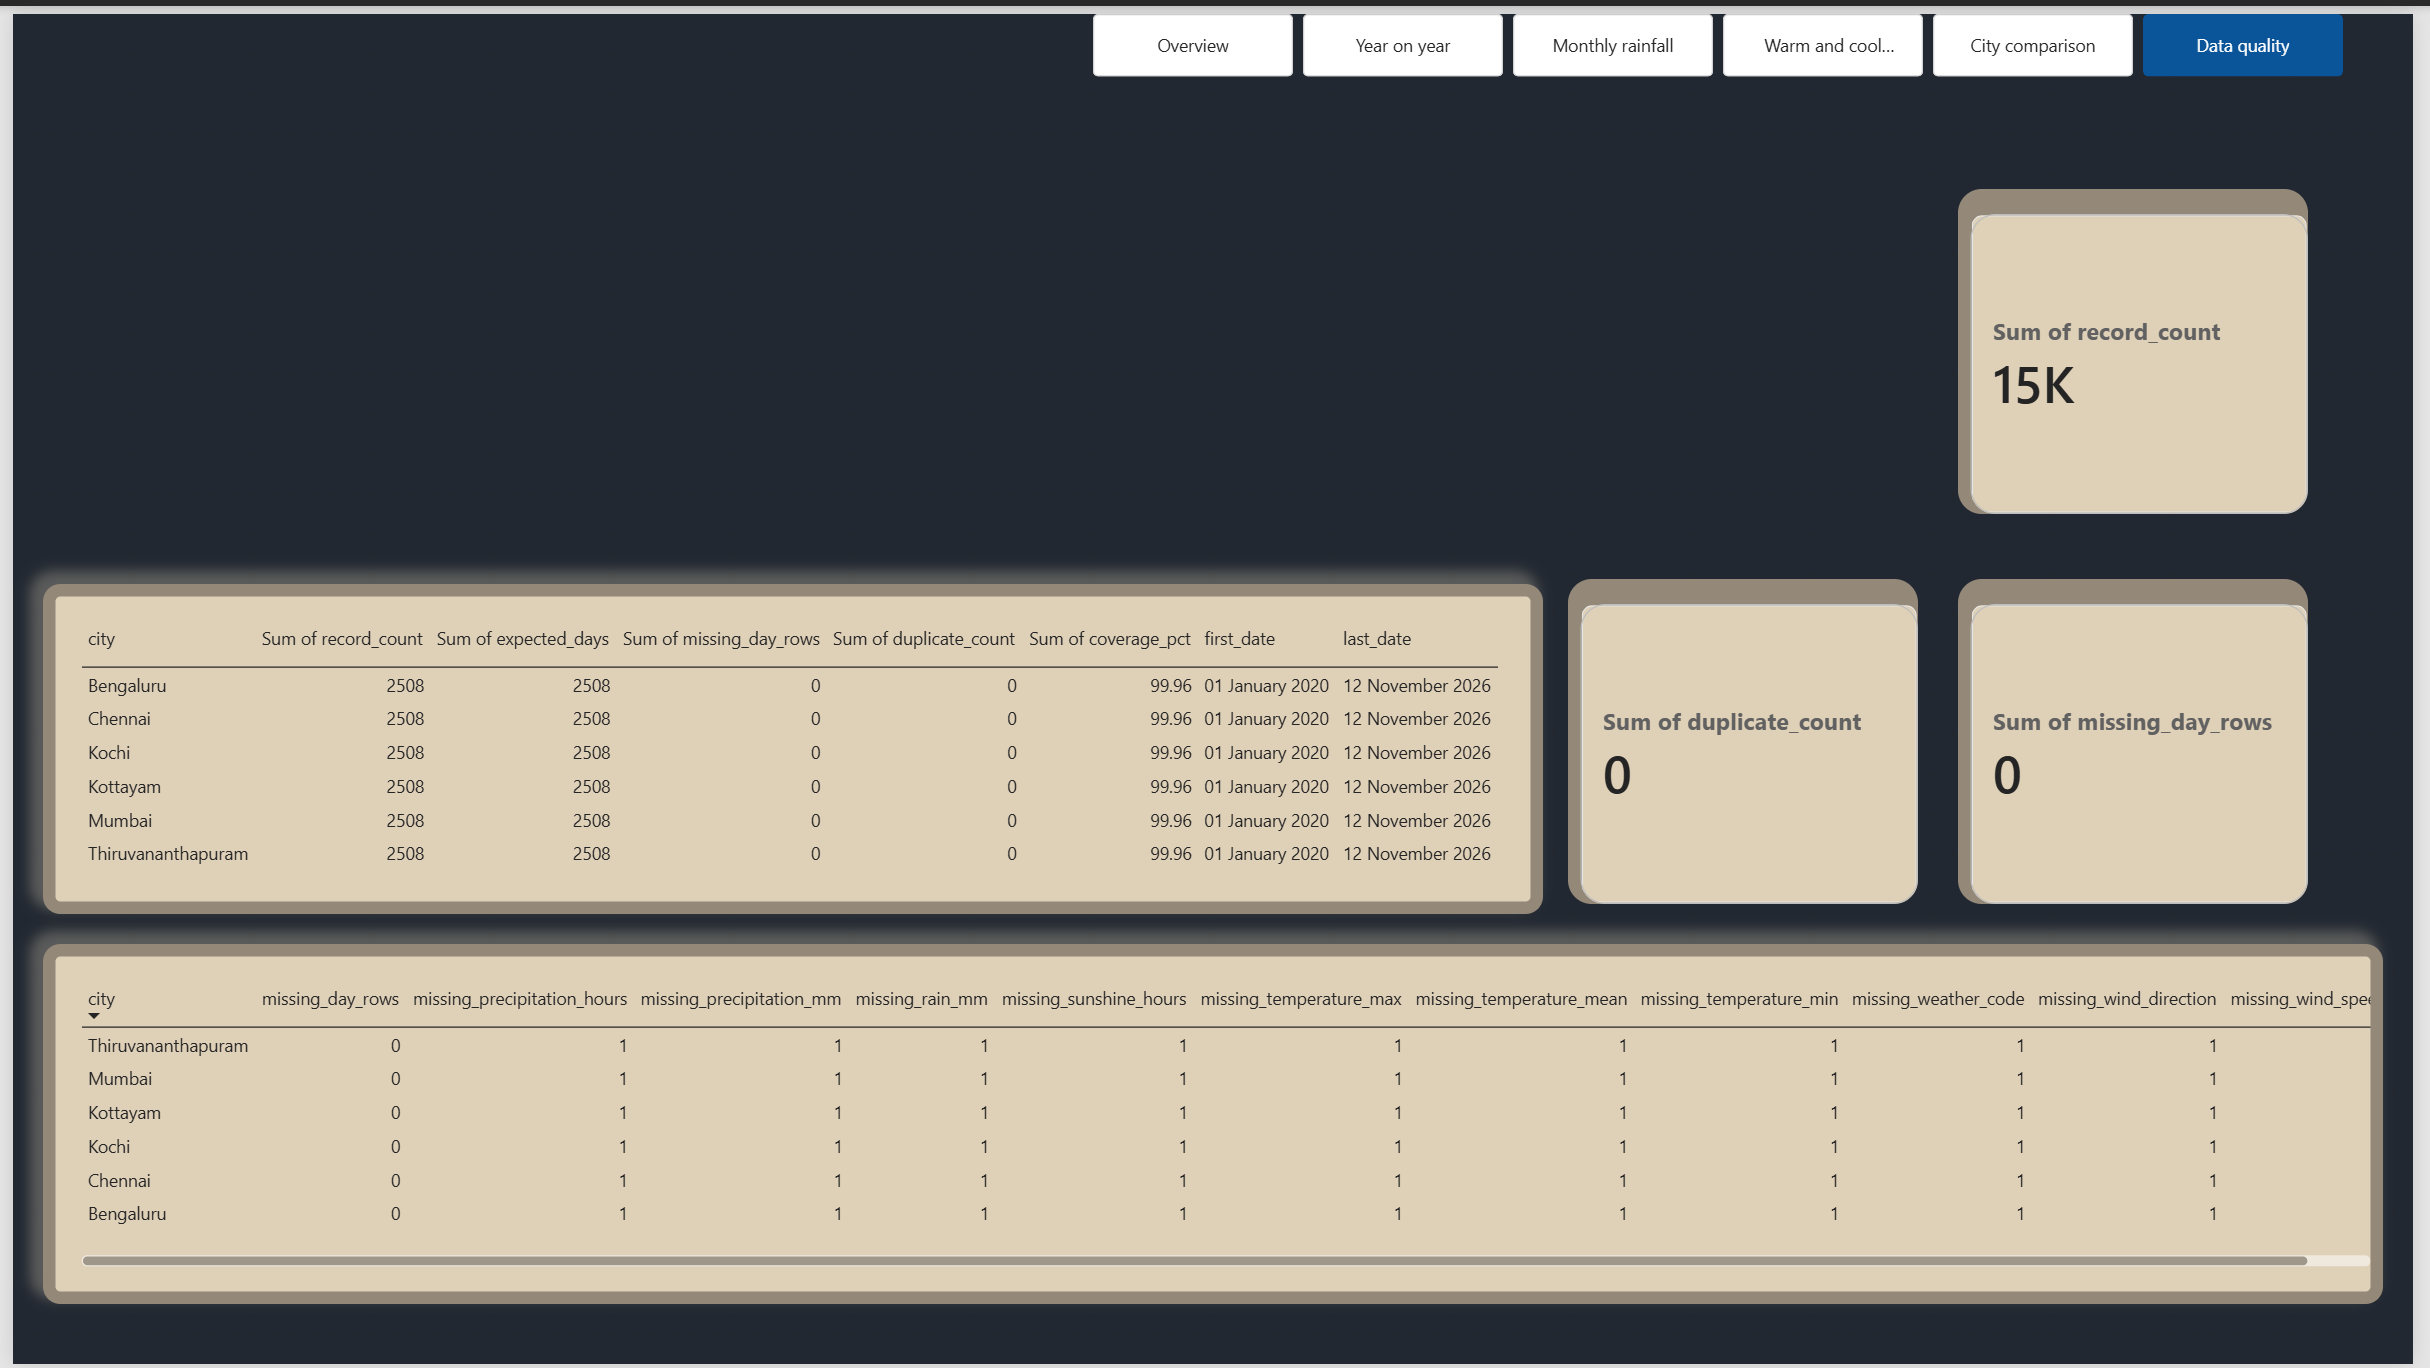

The dashboard page shown, as its layout file describes it:
{"tool":"powerbi","page":{"name":"Data quality","canvas":[1920,1080],"ordinal":5},"visuals":[{"type":"tableEx","fields":{"Values":["vw_data_quality_summary.city","Sum(vw_data_quality_summary.record_count)","Sum(vw_data_quality_summary.expected_days)","Sum(vw_data_quality_summary.missing_day_rows)","Sum(vw_data_quality_summary.duplicate_count)","Sum(vw_data_quality_summary.coverage_pct)","vw_data_quality_summary.first_date","vw_data_quality_summary.last_date"]},"box":[24,456,1200,264],"z":0},{"type":"cardVisual","title":"Record Count","fields":{"Data":["Sum(vw_data_quality_summary.record_count)"]},"box":[1536,120,300,300],"z":1000},{"type":"cardVisual","title":"Record Count","fields":{"Data":["Sum(vw_data_quality_summary.missing_day_rows)"]},"box":[1536,432,300,300],"z":2000},{"type":"cardVisual","title":"Record Count","fields":{"Data":["Sum(vw_data_quality_summary.duplicate_count)"]},"box":[1224,432,300,300],"z":3000},{"type":"tableEx","fields":{"Values":["vw_data_quality_summary.city","vw_data_quality_summary.missing_day_rows","vw_data_quality_summary.missing_precipitation_hours","vw_data_quality_summary.missing_precipitation_mm","vw_data_quality_summary.missing_rain_mm","vw_data_quality_summary.missing_sunshine_hours","vw_data_quality_summary.missing_temperature_max","vw_data_quality_summary.missing_temperature_mean","vw_data_quality_summary.missing_temperature_min","vw_data_quality_summary.missing_weather_code","vw_data_quality_summary.missing_wind_direction","vw_data_quality_summary.missing_wind_speed_max"]},"box":[24,744,1872,288],"z":4000},{"type":"pageNavigator","box":[864,0,1000,50],"z":6000}]}

Visuals, with their boxes in screenshot pixels (x1, y1, x2, y2), scaled from the page's 1920x1080 canvas onto the 2430x1368 screenshot:
tableEx - vw_data_quality_summary.city x Sum(vw_data_quality_summary.record_count): (left=30, top=578, right=1549, bottom=912)
"Record Count" cardVisual: (left=1944, top=152, right=2324, bottom=532)
"Record Count" cardVisual: (left=1944, top=547, right=2324, bottom=927)
"Record Count" cardVisual: (left=1549, top=547, right=1929, bottom=927)
tableEx - vw_data_quality_summary.city x vw_data_quality_summary.missing_day_rows: (left=30, top=942, right=2400, bottom=1307)
pageNavigator: (left=1094, top=0, right=2359, bottom=63)
